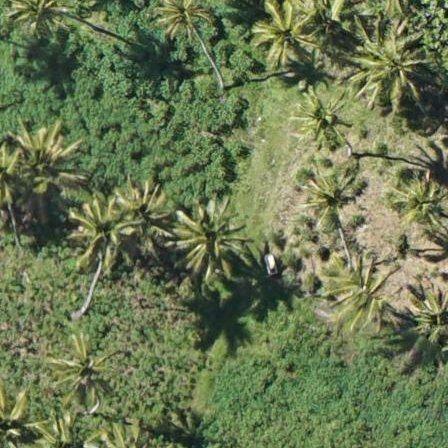palm_tree: (169, 201, 245, 274), (248, 1, 322, 73), (8, 125, 77, 198), (357, 38, 428, 105), (335, 259, 401, 326), (53, 339, 114, 409), (63, 201, 143, 253), (292, 90, 353, 150), (302, 171, 362, 227), (396, 177, 448, 232)
